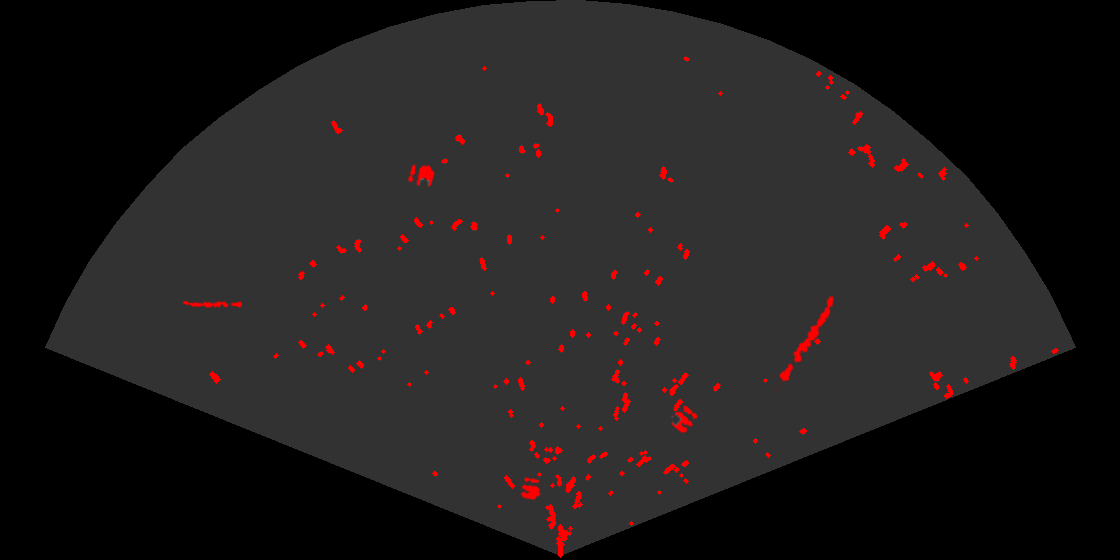ball: (669, 404, 699, 434), (407, 163, 436, 188), (519, 476, 542, 502)
chain: (772, 294, 836, 393), (181, 299, 242, 310)
